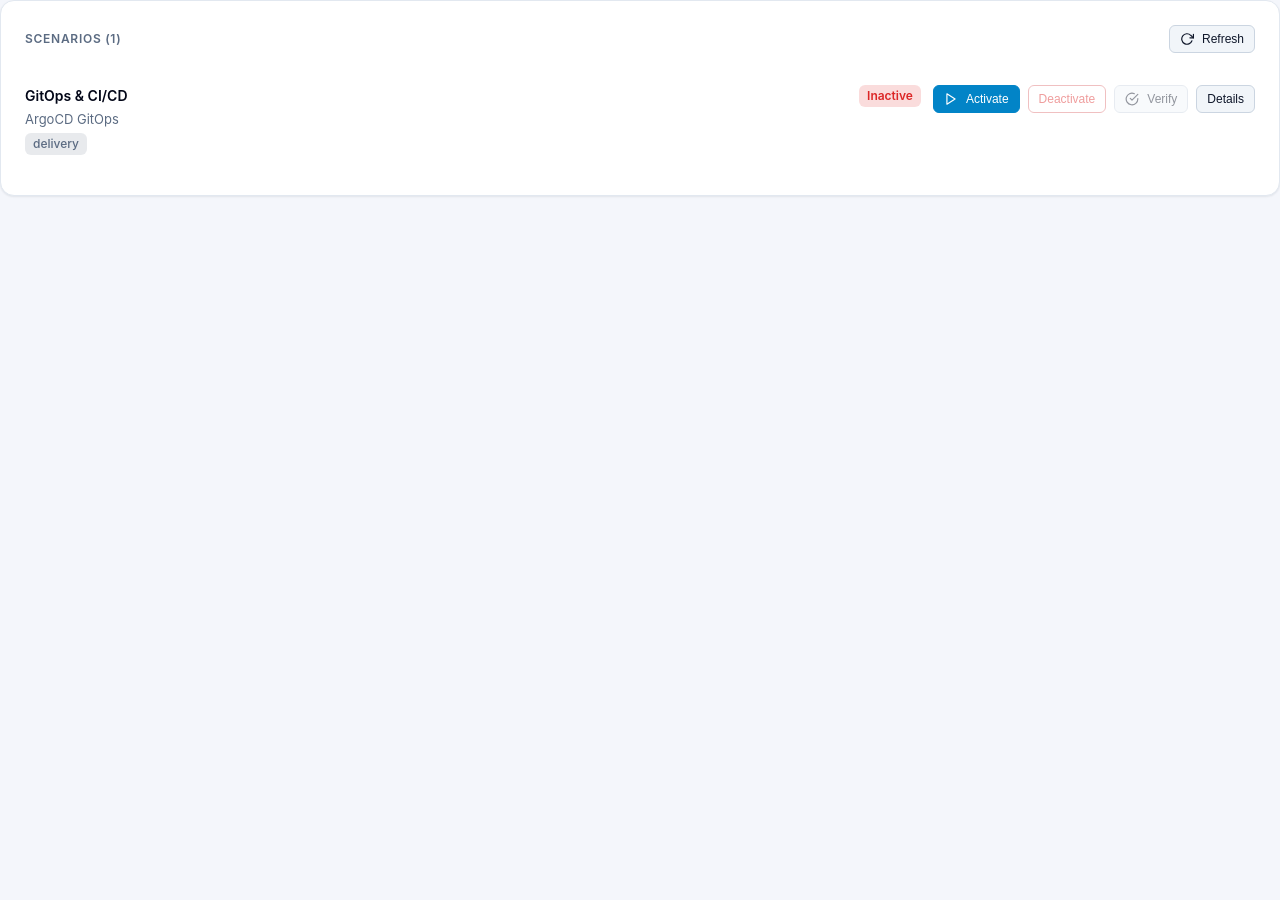
Scenarios view — detail modal teaches implementation › groups the sections into tabs and lands on Overview
The image size is (1280, 900).
Click the button "Details". click: click(1226, 99)
box: [1196, 85, 1255, 113]
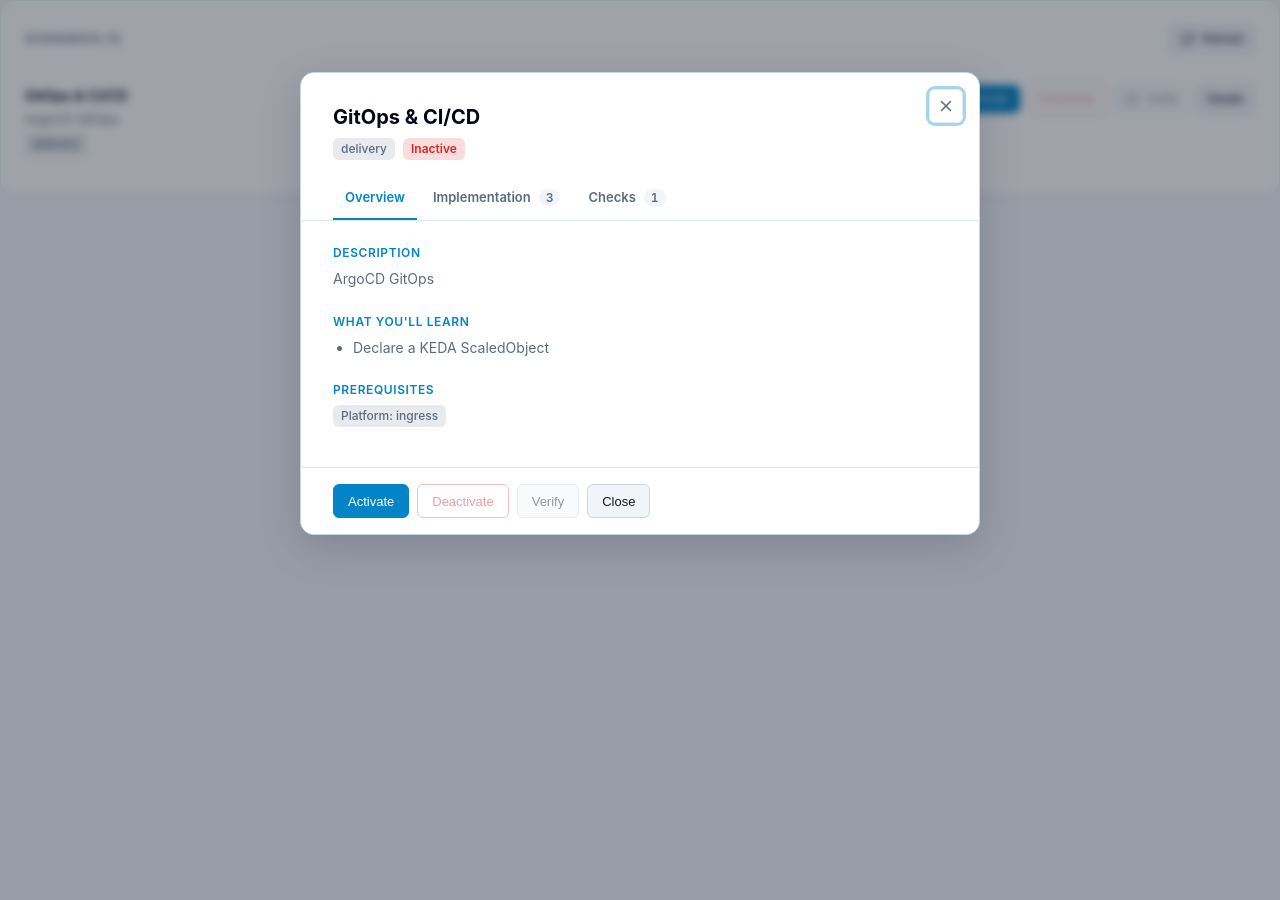
Check: the heading "What you'll learn" is shown, box [333, 314, 469, 329]
Check: the list item "Declare a KEDA ScaledObject" is shown, box [353, 339, 549, 356]
